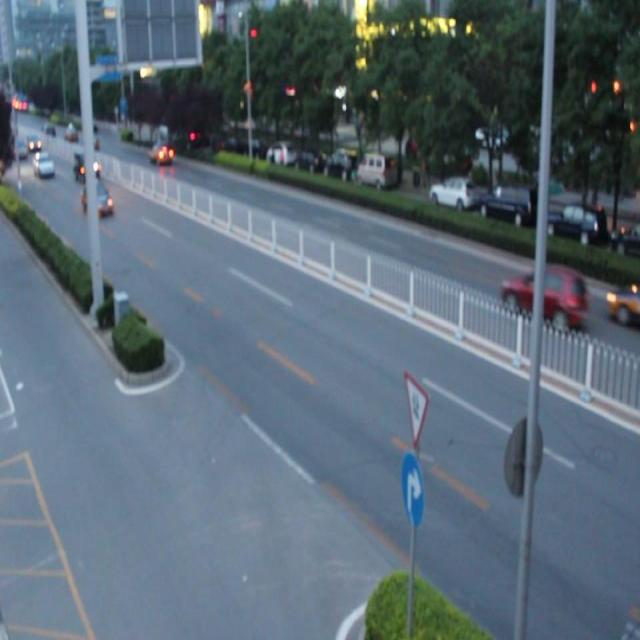car: (505, 273, 584, 327), (82, 186, 114, 218), (151, 144, 174, 164)
